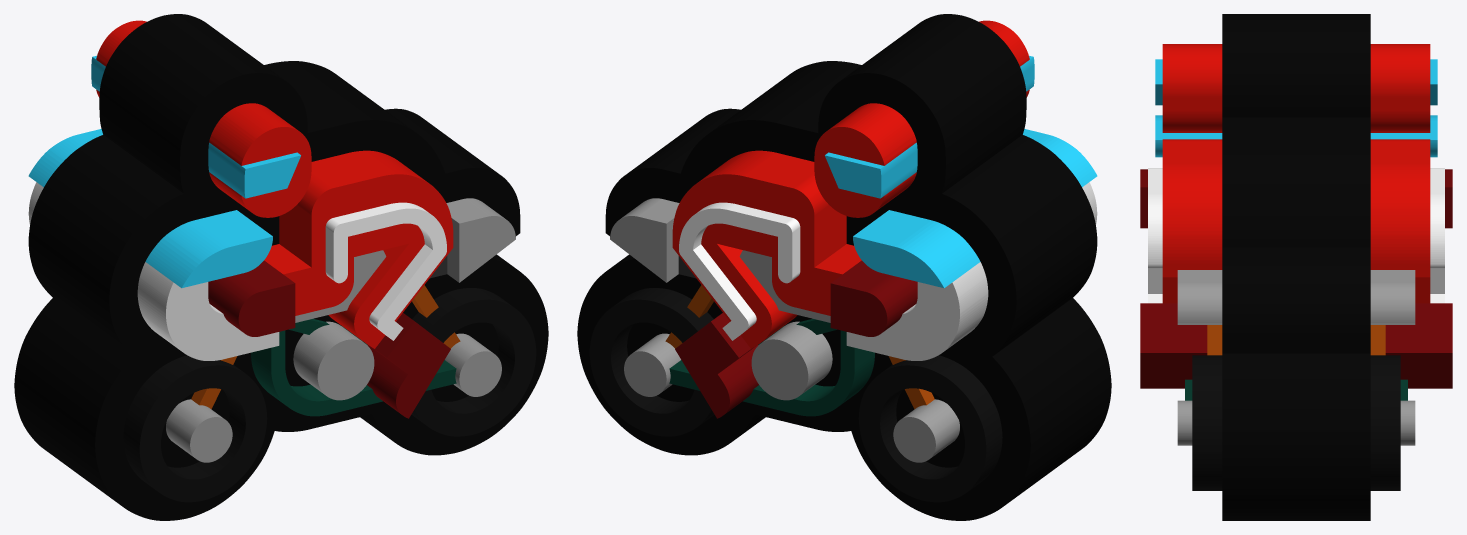
3 views of the same model, side by side, from view 1: azimuth 30°, elevation 25°; view 2: azimuth 150°, elevation 25°; view 3: azimuth 270°, elevation 25° (orthographic). The views are drawn at different scales.
Parts seen in each view (by area): view 1: U+1F3CD_layer00_obj00, U+1F3CD_layer08_obj00, U+1F3CD_layer04_obj00, U+1F3CD_layer06_obj00, U+1F3CD_layer09_obj00, U+1F3CD_layer11_obj00, U+1F3CD_layer07_obj00, U+1F3CD_layer10_obj00, U+1F3CD_layer05_obj00, U+1F3CD_layer02_obj00; view 2: U+1F3CD_layer00_obj00, U+1F3CD_layer08_obj00, U+1F3CD_layer04_obj00, U+1F3CD_layer06_obj00, U+1F3CD_layer09_obj00, U+1F3CD_layer11_obj00, U+1F3CD_layer07_obj00, U+1F3CD_layer10_obj00, U+1F3CD_layer05_obj00, U+1F3CD_layer02_obj00; view 3: U+1F3CD_layer00_obj00, U+1F3CD_layer08_obj00, U+1F3CD_layer11_obj00, U+1F3CD_layer04_obj00, U+1F3CD_layer06_obj00, U+1F3CD_layer10_obj00, U+1F3CD_layer09_obj00, U+1F3CD_layer02_obj00.
Part boxes in pixels (bbox=[...]): U+1F3CD_layer00_obj00: bbox=[14, 14, 548, 520]; U+1F3CD_layer08_obj00: bbox=[96, 20, 453, 348]; U+1F3CD_layer04_obj00: bbox=[123, 288, 536, 502]; U+1F3CD_layer06_obj00: bbox=[166, 198, 515, 462]; U+1F3CD_layer09_obj00: bbox=[28, 55, 300, 288]; U+1F3CD_layer11_obj00: bbox=[208, 260, 450, 418]; U+1F3CD_layer07_obj00: bbox=[28, 182, 279, 360]; U+1F3CD_layer10_obj00: bbox=[325, 202, 446, 340]; U+1F3CD_layer05_obj00: bbox=[251, 330, 456, 416]; U+1F3CD_layer02_obj00: bbox=[191, 285, 460, 409]; U+1F3CD_layer00_obj00: bbox=[577, 14, 1111, 520]; U+1F3CD_layer08_obj00: bbox=[672, 20, 1029, 348]; U+1F3CD_layer04_obj00: bbox=[589, 288, 1002, 502]; U+1F3CD_layer06_obj00: bbox=[610, 198, 959, 462]; U+1F3CD_layer09_obj00: bbox=[825, 55, 1097, 288]; U+1F3CD_layer11_obj00: bbox=[675, 260, 917, 418]; U+1F3CD_layer07_obj00: bbox=[846, 182, 1097, 360]; U+1F3CD_layer10_obj00: bbox=[679, 202, 800, 340]; U+1F3CD_layer05_obj00: bbox=[669, 330, 874, 416]; U+1F3CD_layer02_obj00: bbox=[665, 285, 934, 409]; U+1F3CD_layer00_obj00: bbox=[1222, 14, 1370, 520]; U+1F3CD_layer08_obj00: bbox=[1162, 44, 1430, 303]; U+1F3CD_layer11_obj00: bbox=[1140, 169, 1452, 388]; U+1F3CD_layer04_obj00: bbox=[1192, 355, 1400, 490]; U+1F3CD_layer06_obj00: bbox=[1177, 270, 1415, 445]; U+1F3CD_layer10_obj00: bbox=[1148, 168, 1444, 303]; U+1F3CD_layer09_obj00: bbox=[1155, 59, 1437, 157]; U+1F3CD_layer02_obj00: bbox=[1207, 325, 1385, 355].
Size of the model in its own units: 0.6491 by 0.588 by 0.42.
